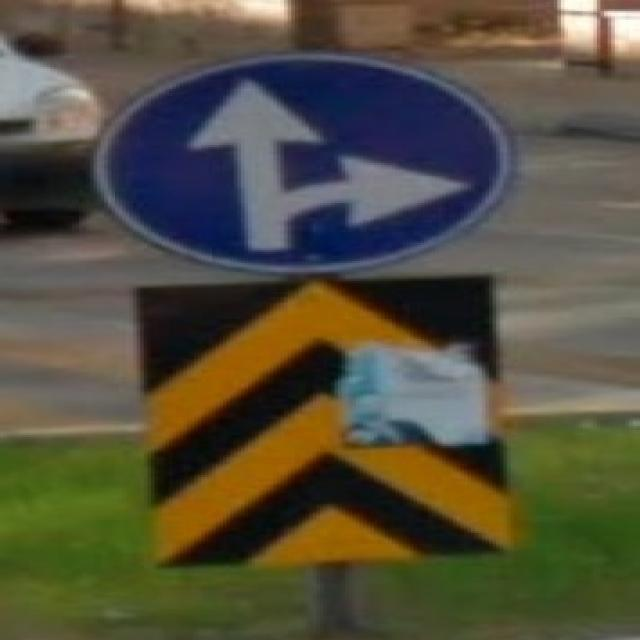Straight or Right: (97, 57, 514, 269)
